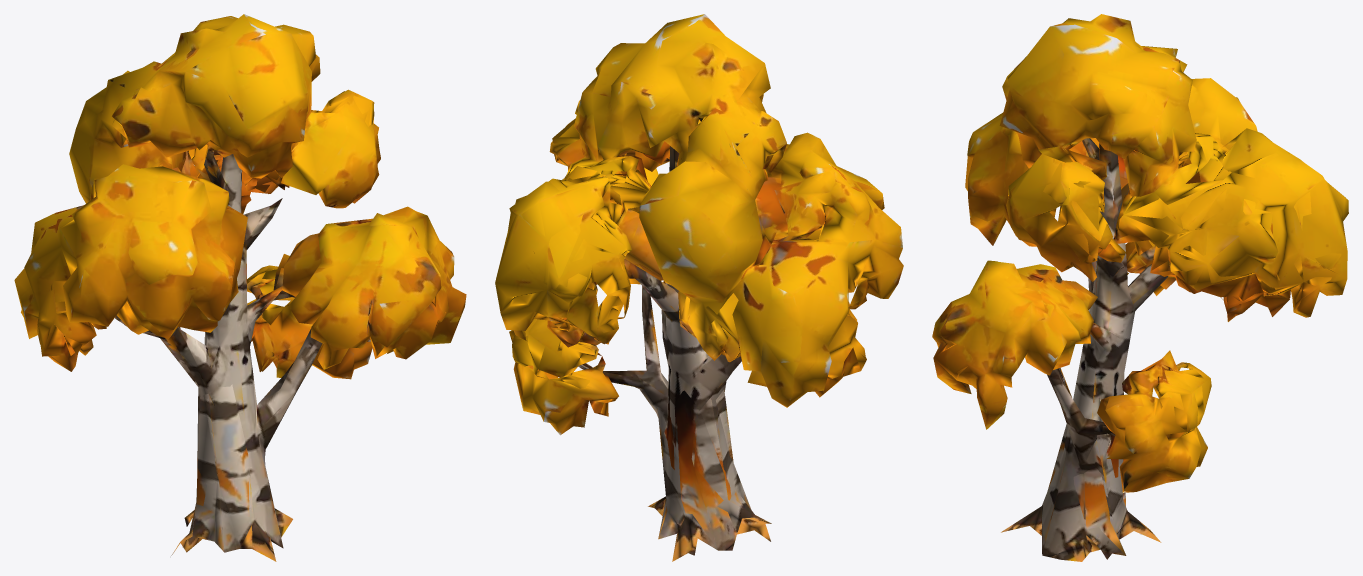
Rendered from tree_autumn_birch.glb.
3 renders of one model, left to right at view 1: azimuth 30°, elevation 25°; view 2: azimuth 150°, elevation 25°; view 3: azimuth 270°, elevation 25°, orthographic. The views are drawn at different scales.
Parts seen in each view (by area): view 1: BakeLow; view 2: BakeLow; view 3: BakeLow.
Boxes of the visible parts, left/top/right/bottom form: BakeLow: left=14, top=14, right=466, bottom=561; BakeLow: left=495, top=14, right=903, bottom=561; BakeLow: left=932, top=14, right=1348, bottom=561.
Size of the model in its own units: 0.6329 by 0.8558 by 0.6126.
1 material, 1 textured.
